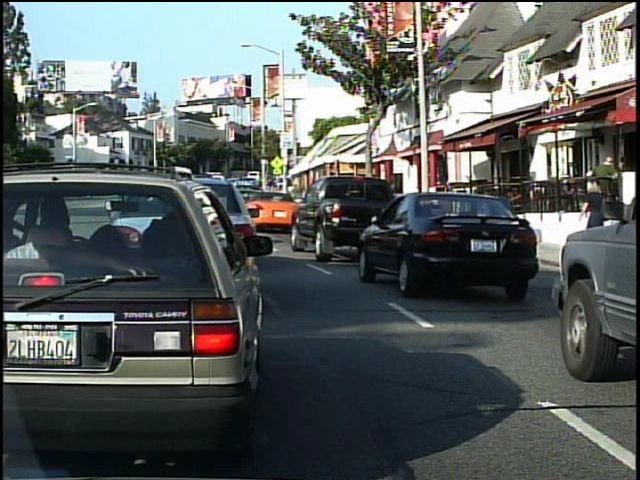person: (587, 149, 624, 236), (581, 175, 617, 260)
